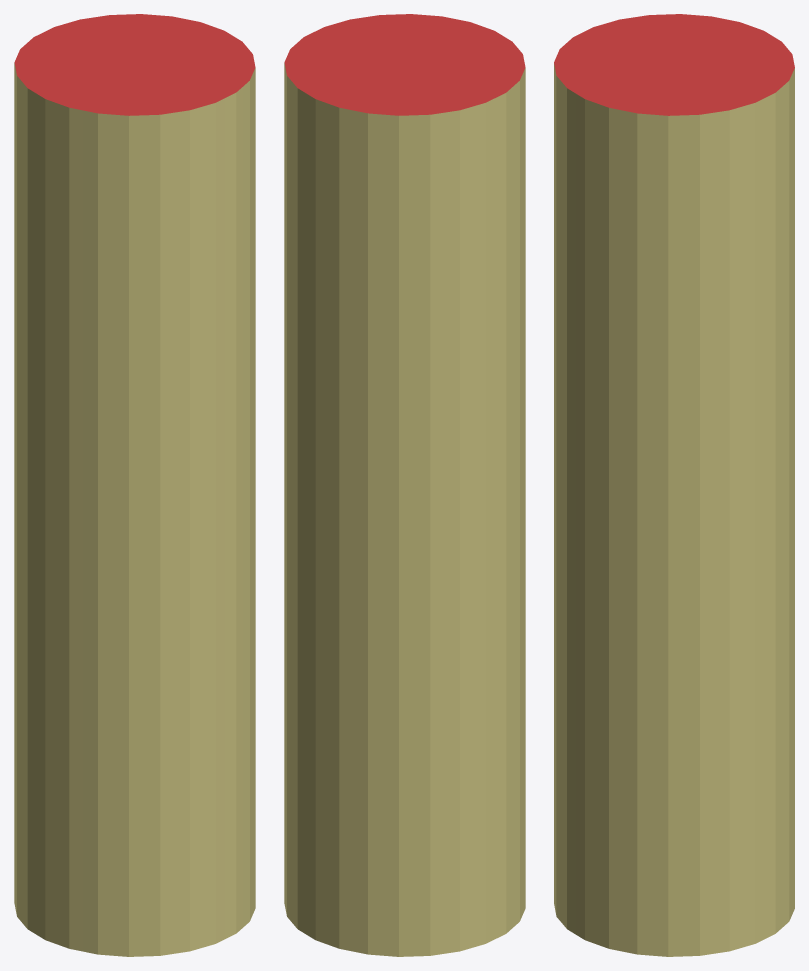
The picture shows the model from 3 angles, left to right: view 1: azimuth 30°, elevation 25°; view 2: azimuth 150°, elevation 25°; view 3: azimuth 270°, elevation 25°; orthographic projection.
Size of the model in its own units: 2.21 by 2.21 by 8.52.
